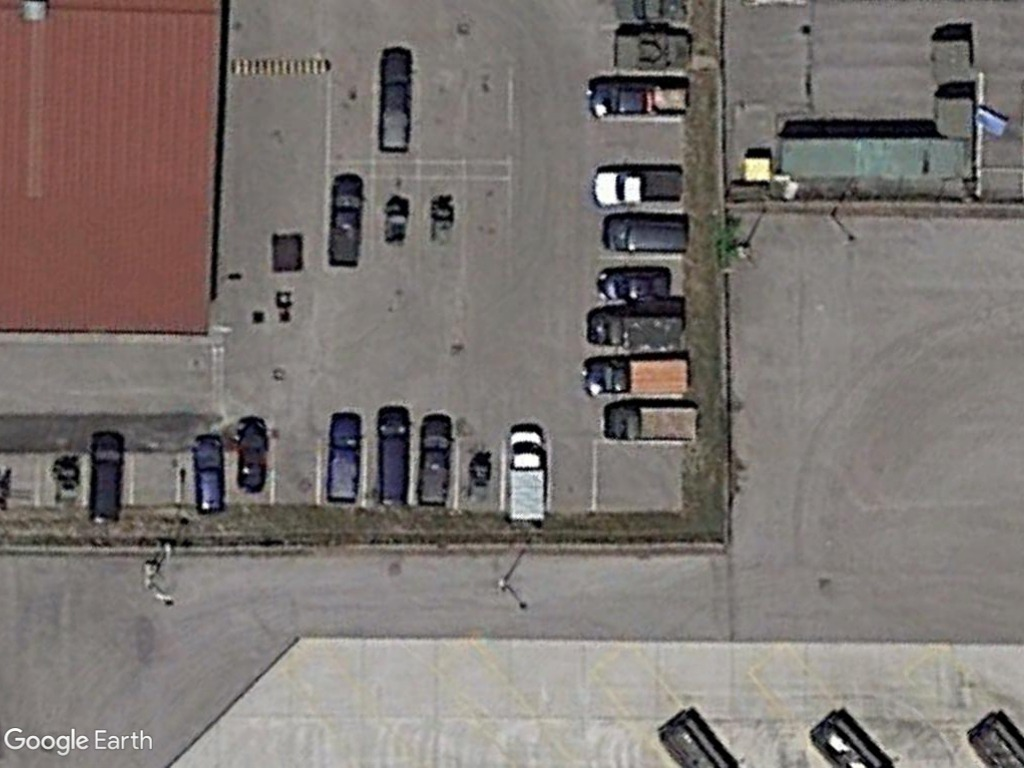car: (594, 264, 674, 303), (191, 433, 227, 514)
other: (583, 74, 695, 123), (586, 164, 689, 209), (374, 44, 415, 156), (327, 171, 366, 271)
truck: (579, 352, 695, 398), (601, 403, 706, 447), (506, 424, 551, 526), (587, 306, 687, 350)
van: (599, 212, 694, 255), (325, 410, 365, 507), (373, 405, 411, 507), (415, 414, 455, 509), (89, 431, 127, 527)
